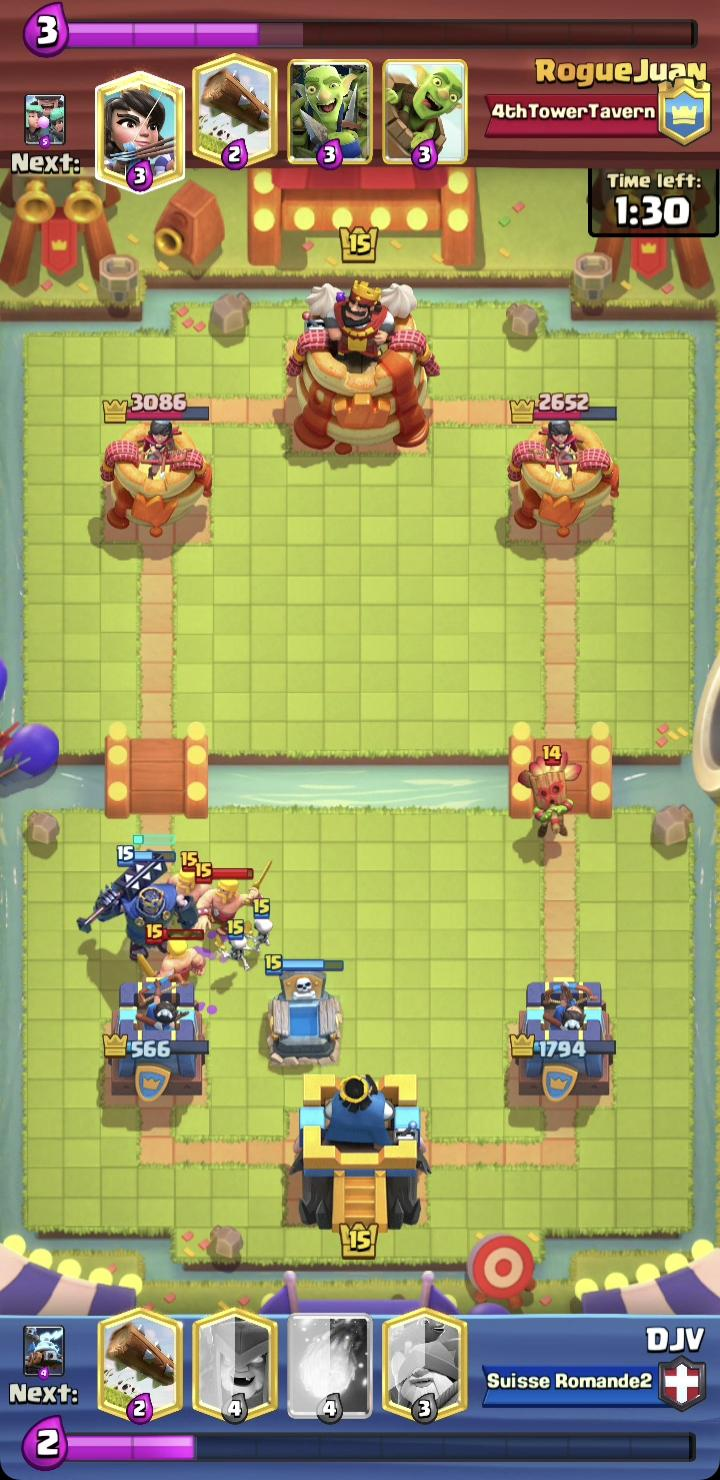ally_skeleton: (218, 919, 256, 972), (243, 897, 280, 949)
ally_skeletonking: (74, 833, 199, 968)
ally_tombstone: (263, 953, 347, 1069)
enemy_barbarian: (192, 858, 275, 951), (136, 922, 207, 987), (157, 850, 205, 925)
enemy_dart_goblin: (514, 742, 581, 838)
